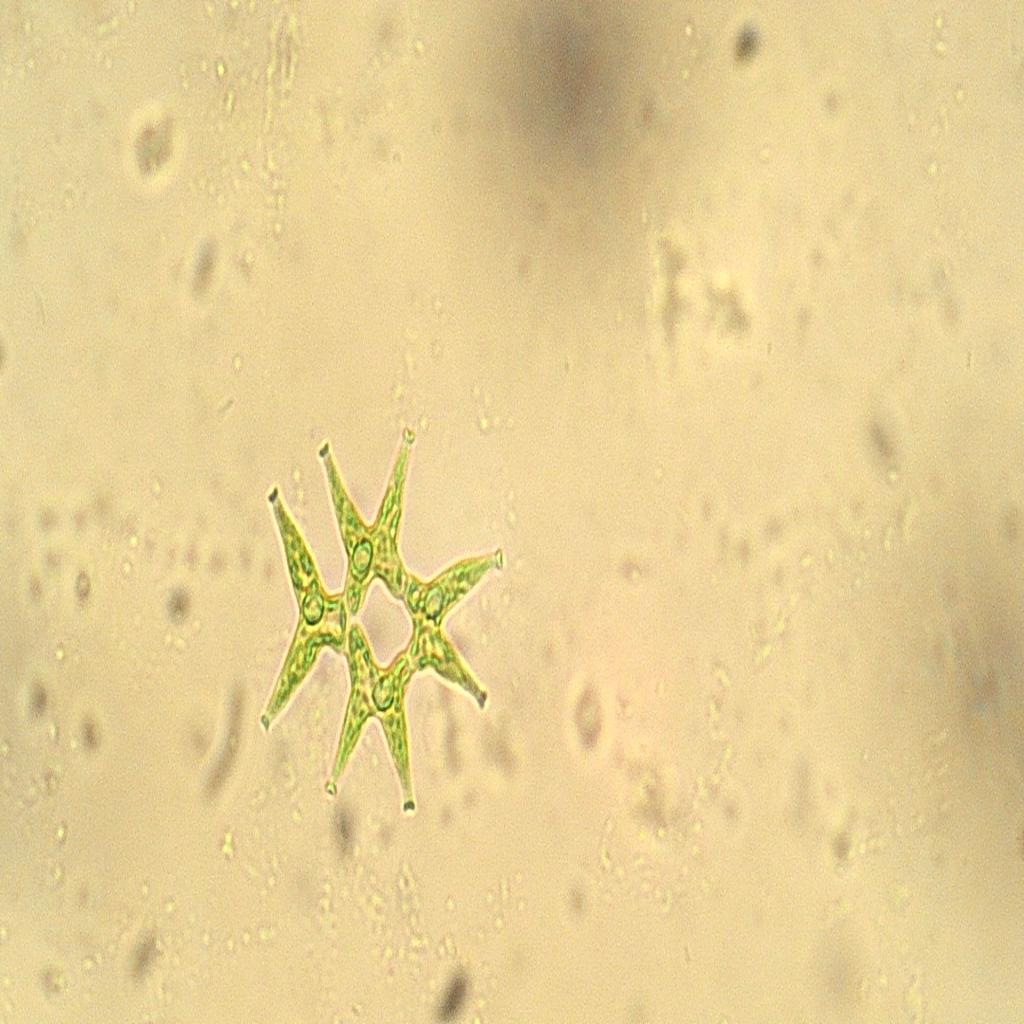Pediastrum_CT: (242, 401, 523, 830)
